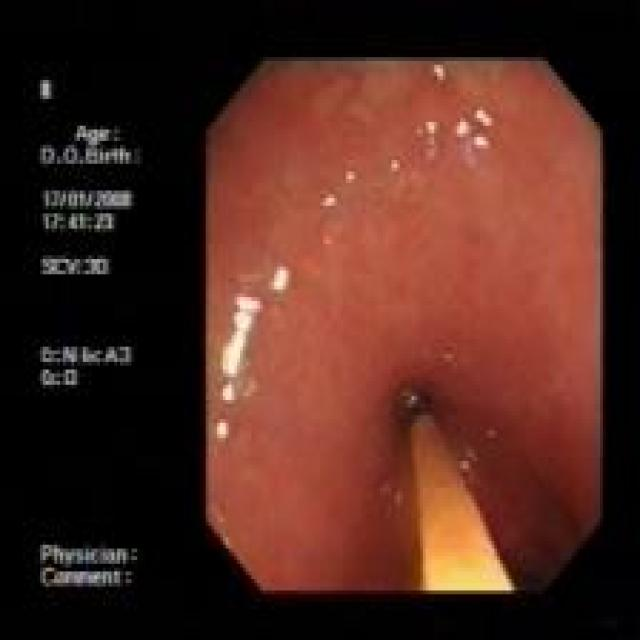color misalignment: (35, 77, 143, 590)
instrument: (398, 382, 514, 590)
saturation: (422, 556, 512, 590)
specularity: (221, 293, 261, 403), (455, 106, 491, 148), (211, 416, 240, 451), (268, 262, 293, 294), (432, 60, 447, 79), (321, 193, 335, 207), (425, 119, 437, 133), (344, 172, 355, 181), (391, 160, 399, 169)
